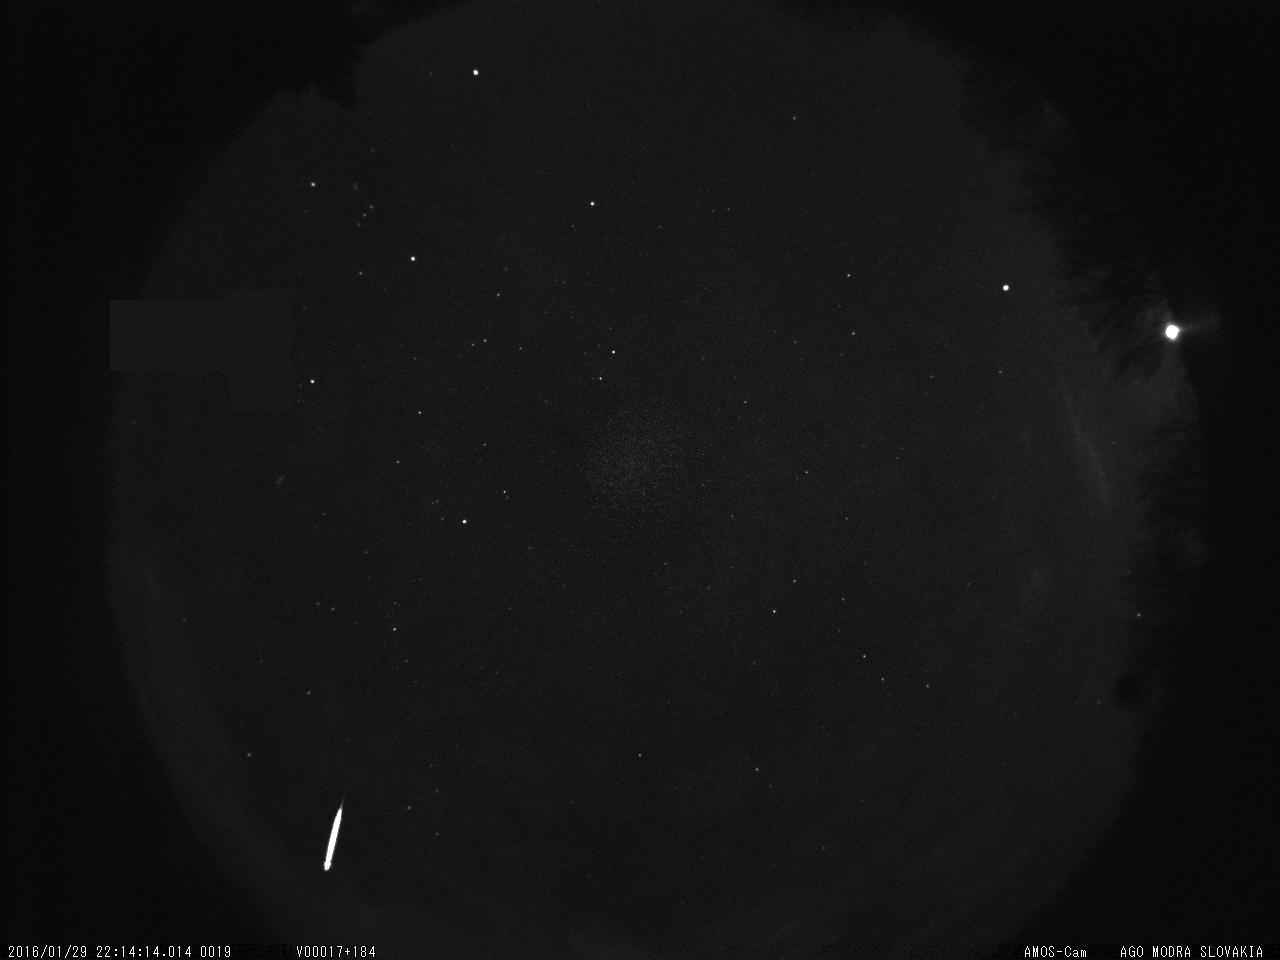meteor: (313, 793, 352, 879)
